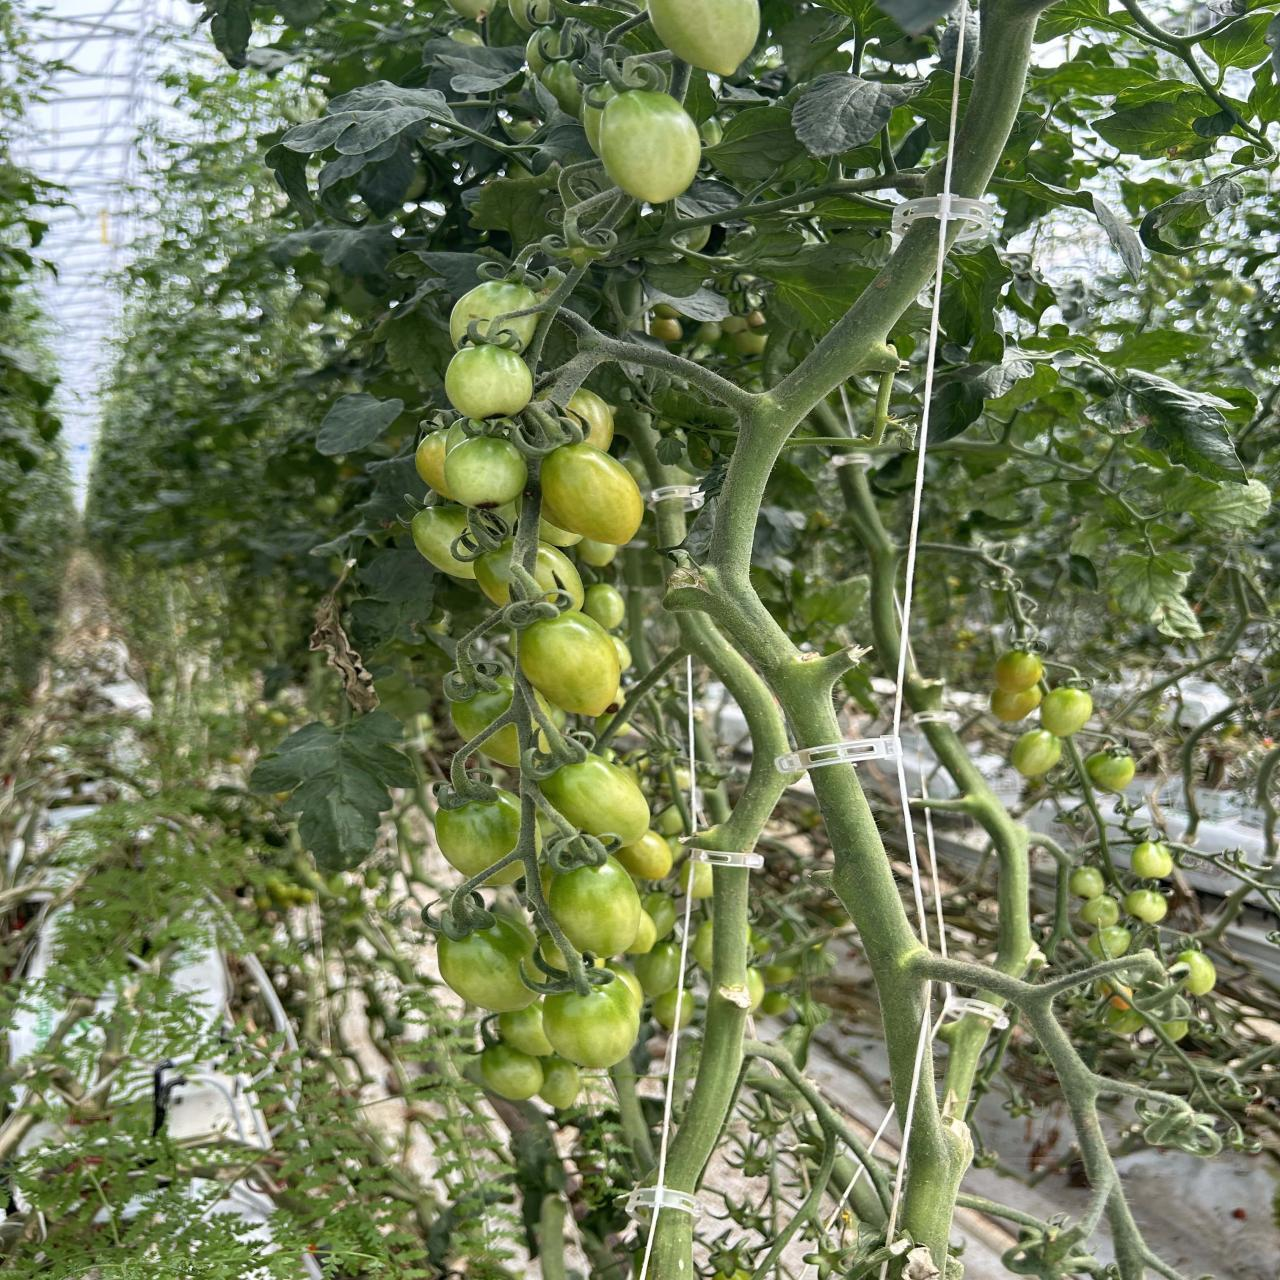Rugose tomato: (411, 506, 474, 579), (533, 543, 584, 610), (451, 688, 511, 744), (613, 831, 673, 880), (474, 540, 515, 605), (995, 649, 1043, 693), (990, 686, 1042, 722), (481, 726, 518, 767), (488, 862, 523, 885)
